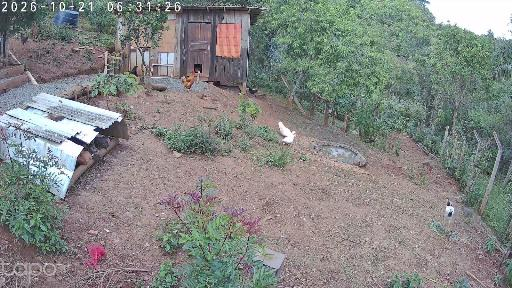frango: (81, 145, 109, 164), (444, 198, 455, 230), (77, 148, 93, 165), (96, 136, 110, 150)
galinha: (20, 32, 29, 47), (249, 87, 259, 98), (130, 65, 138, 78), (324, 107, 332, 114)
galo: (181, 71, 195, 93)
pato: (278, 121, 296, 135), (282, 134, 297, 145)
